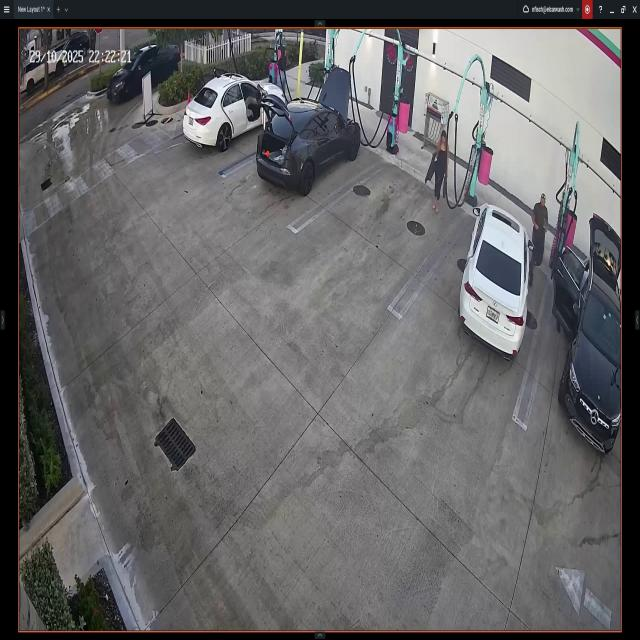Car: (553, 215, 620, 453), (454, 198, 537, 362), (258, 70, 362, 198), (182, 76, 285, 152), (105, 42, 178, 115)
